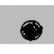correct: (19, 19, 44, 42)
